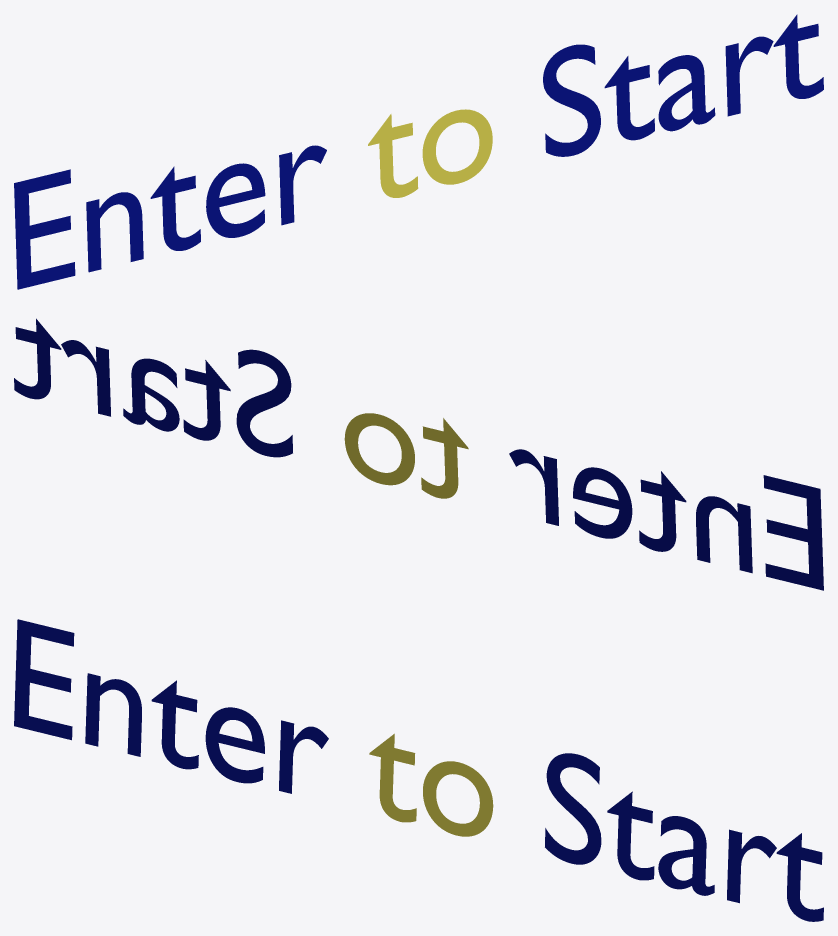
The model's file is 3DEnter.obj.
3 renders of one model, top to bottom at view 1: azimuth 30°, elevation 25°; view 2: azimuth 150°, elevation 25°; view 3: azimuth 330°, elevation 25°, orthographic.
Parts seen in each view (by area): view 1: テキスト; view 2: テキスト; view 3: テキスト.
Part boxes in pixels (x1=…): テキスト: x1=14, y1=14, x2=823, y2=289; テキスト: x1=14, y1=318, x2=823, y2=590; テキスト: x1=14, y1=619, x2=823, y2=921.
Size of the model in its own units: 5.52 by 0.6987 by 0.0427.
1 material, 1 textured.
